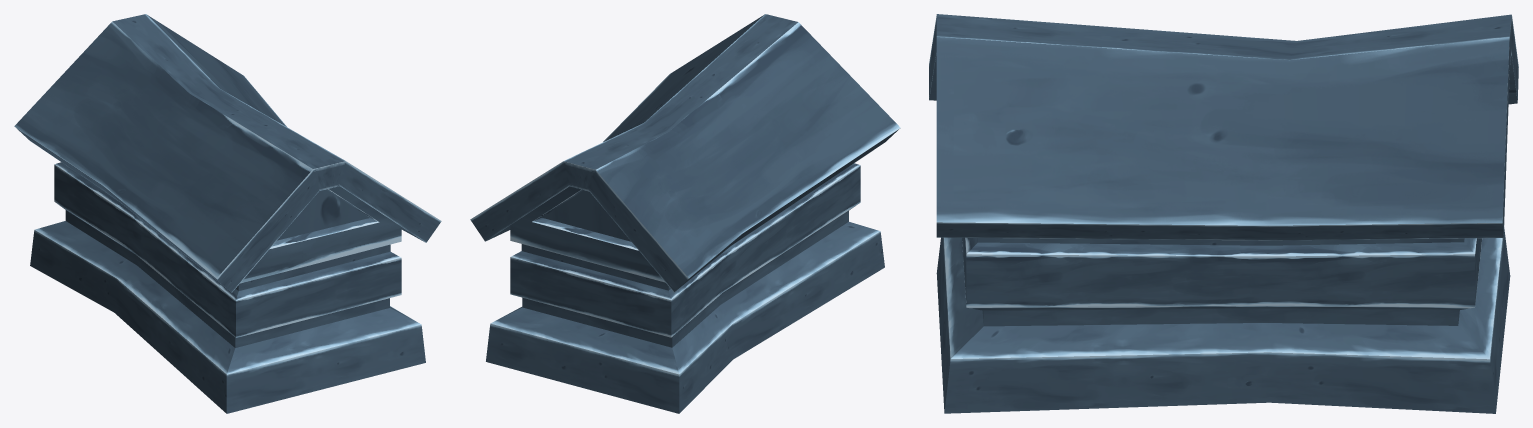
File: SM_PROP_stonegrave_v03_01.fbx
The picture shows the model from 3 angles, left to right: view 1: azimuth 30°, elevation 25°; view 2: azimuth 150°, elevation 25°; view 3: azimuth 270°, elevation 25°; orthographic projection. The views are drawn at different scales.
Parts seen in each view (by area): view 1: SM_PROP_stonegrave_v03_01; view 2: SM_PROP_stonegrave_v03_01; view 3: SM_PROP_stonegrave_v03_01.
Part boxes in pixels (<box>): SM_PROP_stonegrave_v03_01: <box>14,14,441,413</box>; SM_PROP_stonegrave_v03_01: <box>470,14,900,413</box>; SM_PROP_stonegrave_v03_01: <box>929,14,1518,413</box>.
Bounding box in the file's own units: 270 × 253 × 423.
